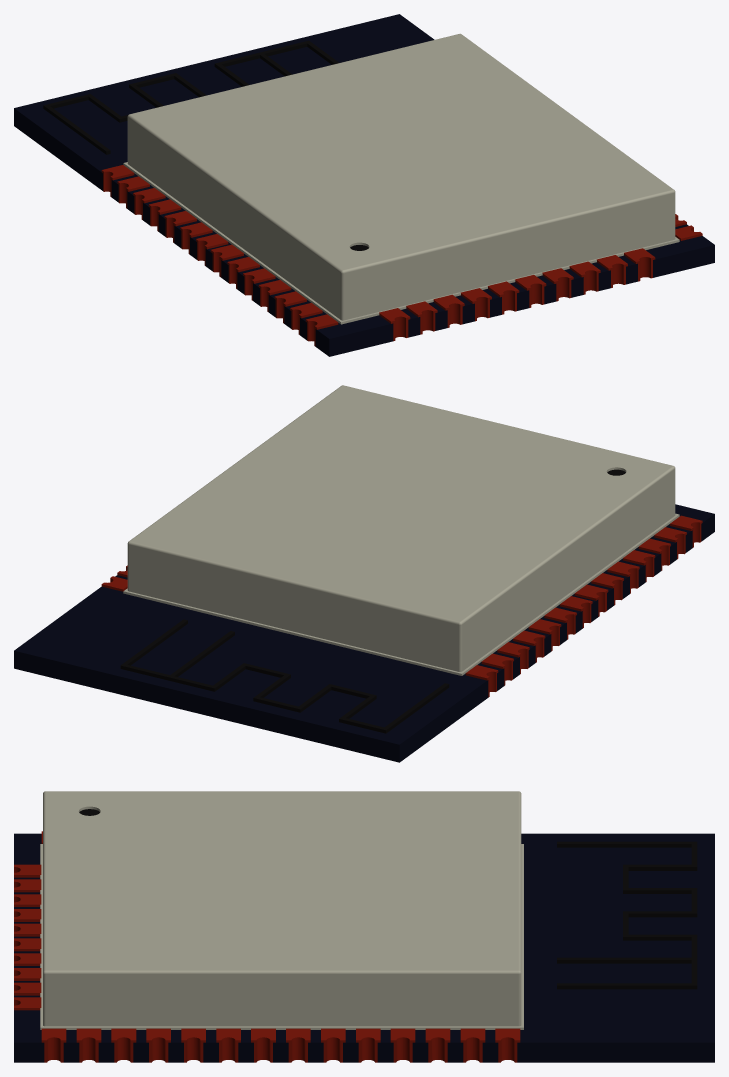
File: esp32-wroom-32.glb
3 views of the same model, one above another, from view 1: azimuth 30°, elevation 25°; view 2: azimuth 150°, elevation 25°; view 3: azimuth 270°, elevation 25° (orthographic). The views are drawn at different scales.
Size of the model in its own units: 18 by 3.1 by 25.5.
